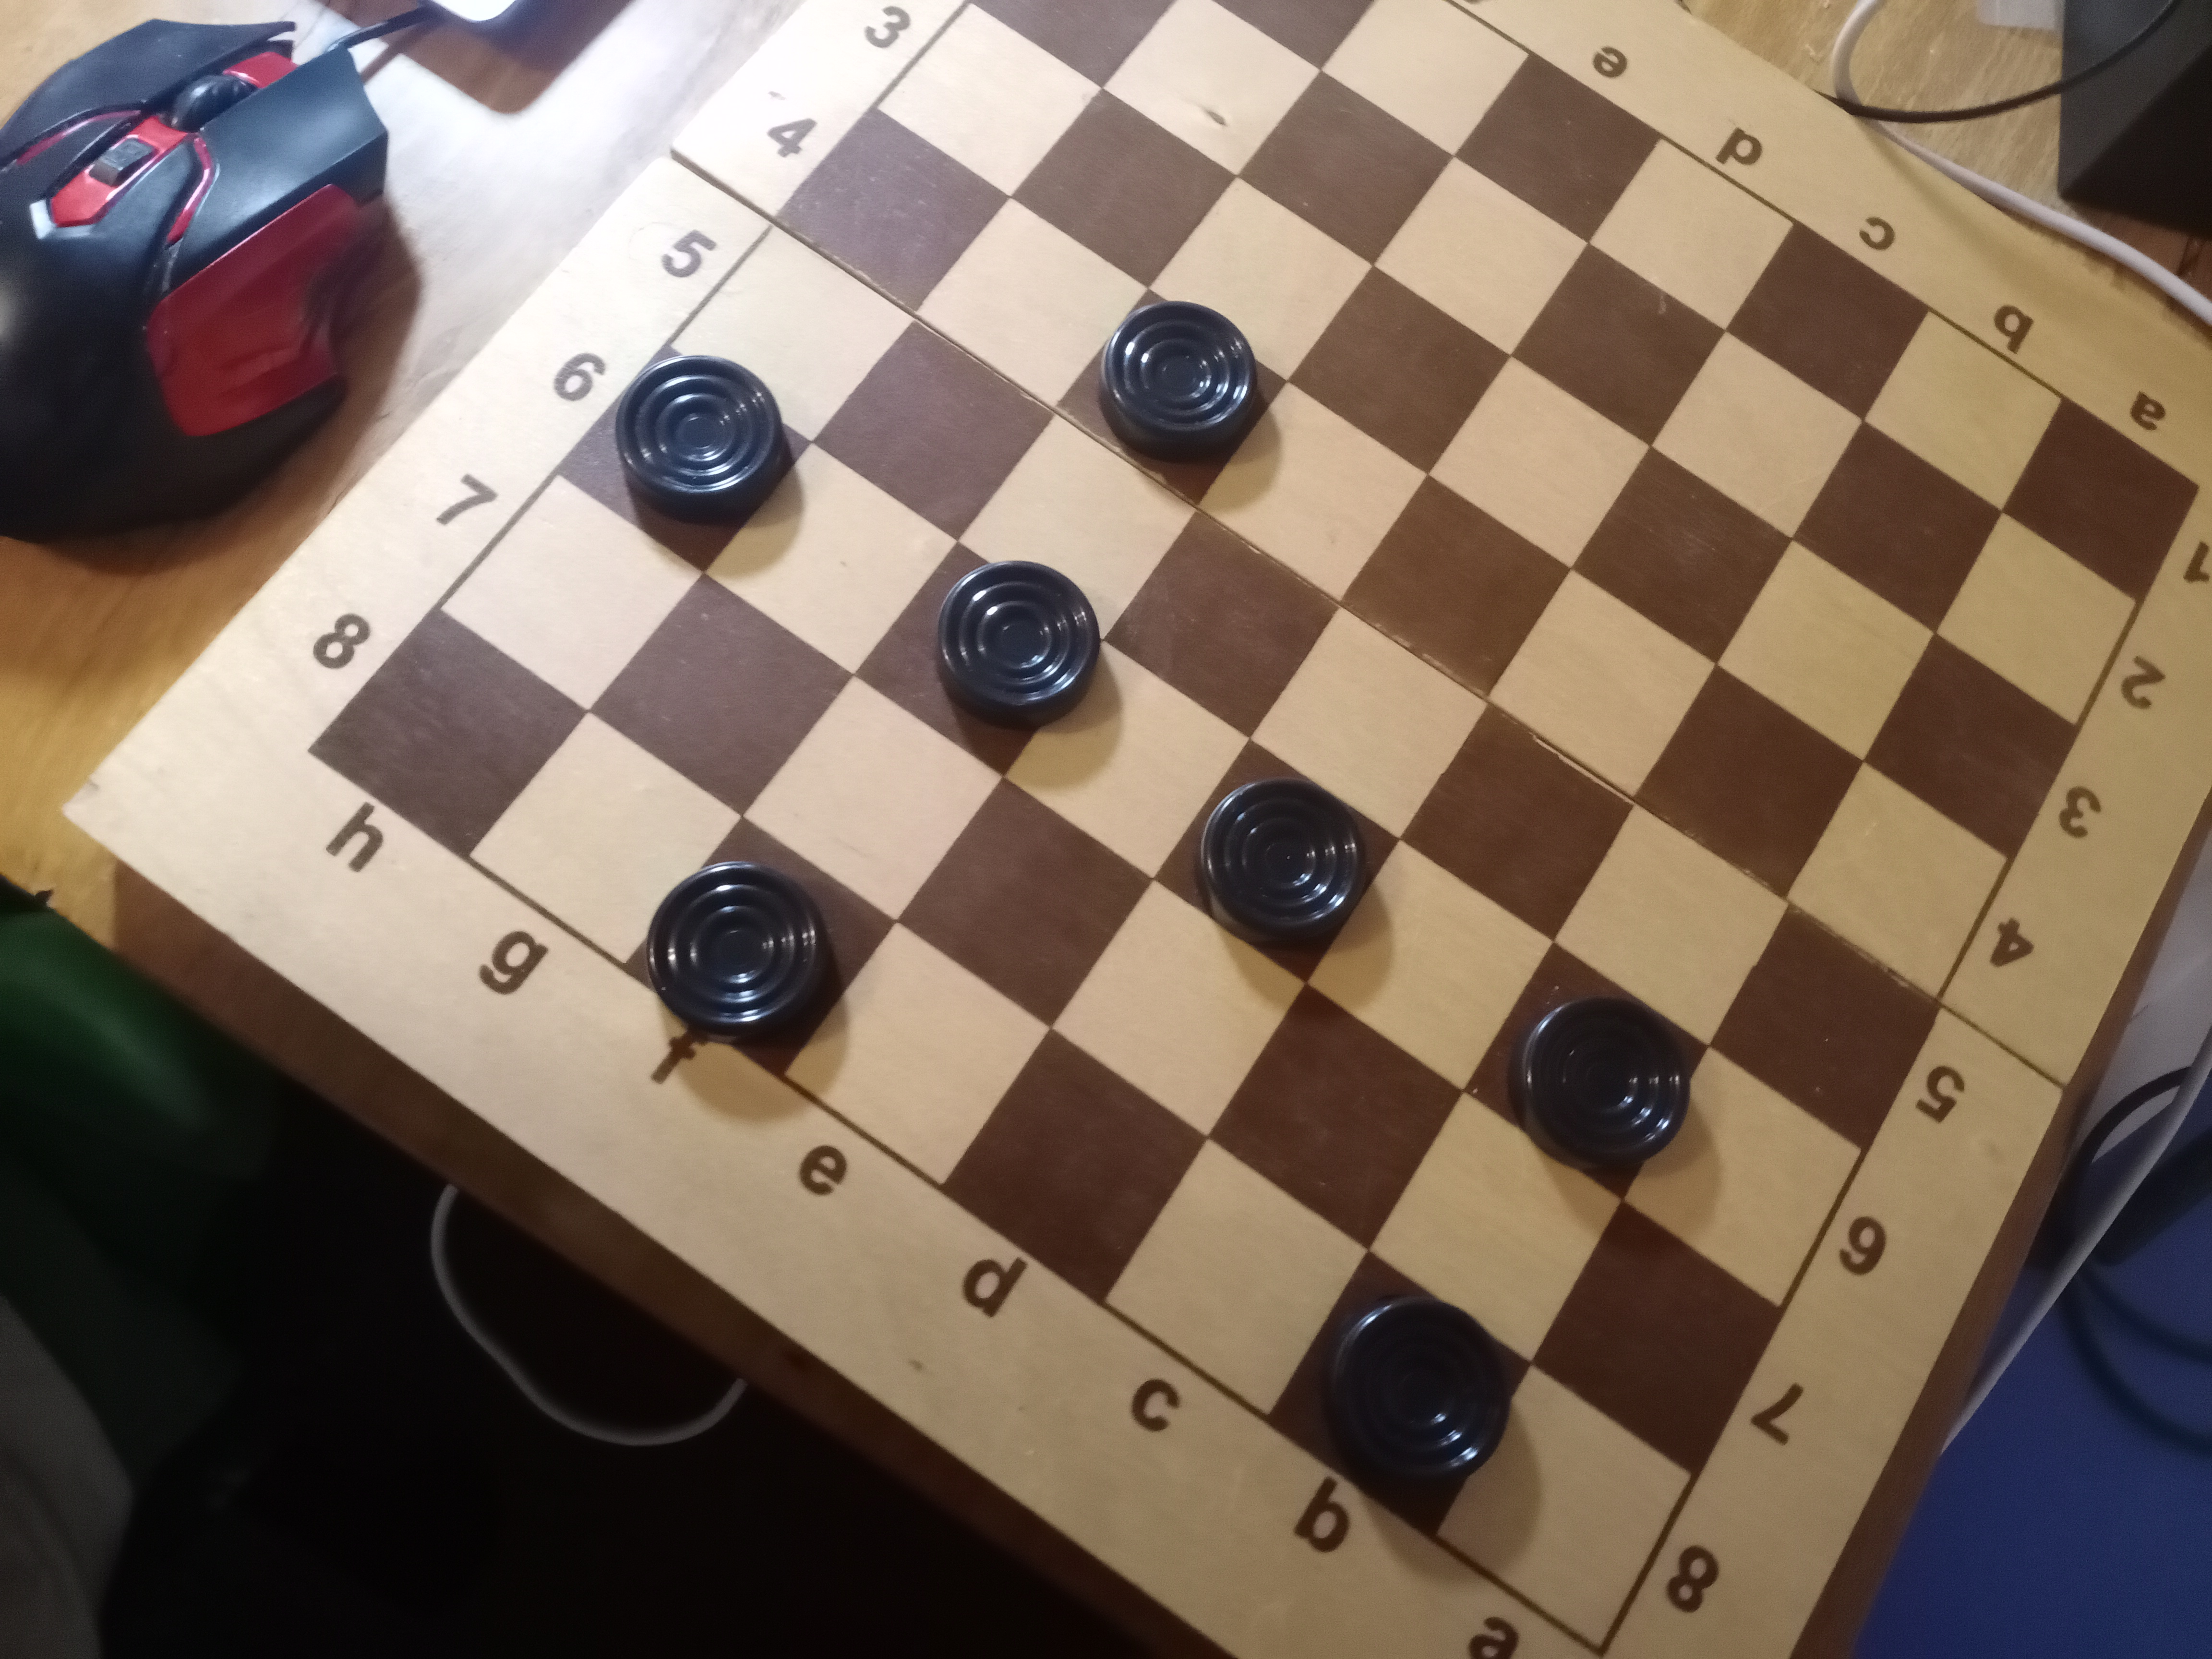Black_Draught: (1266, 1253, 1531, 1534), (627, 819, 895, 1075), (1463, 945, 1707, 1199), (556, 343, 813, 575), (1153, 739, 1399, 981), (852, 544, 1104, 775), (1052, 289, 1289, 505)
